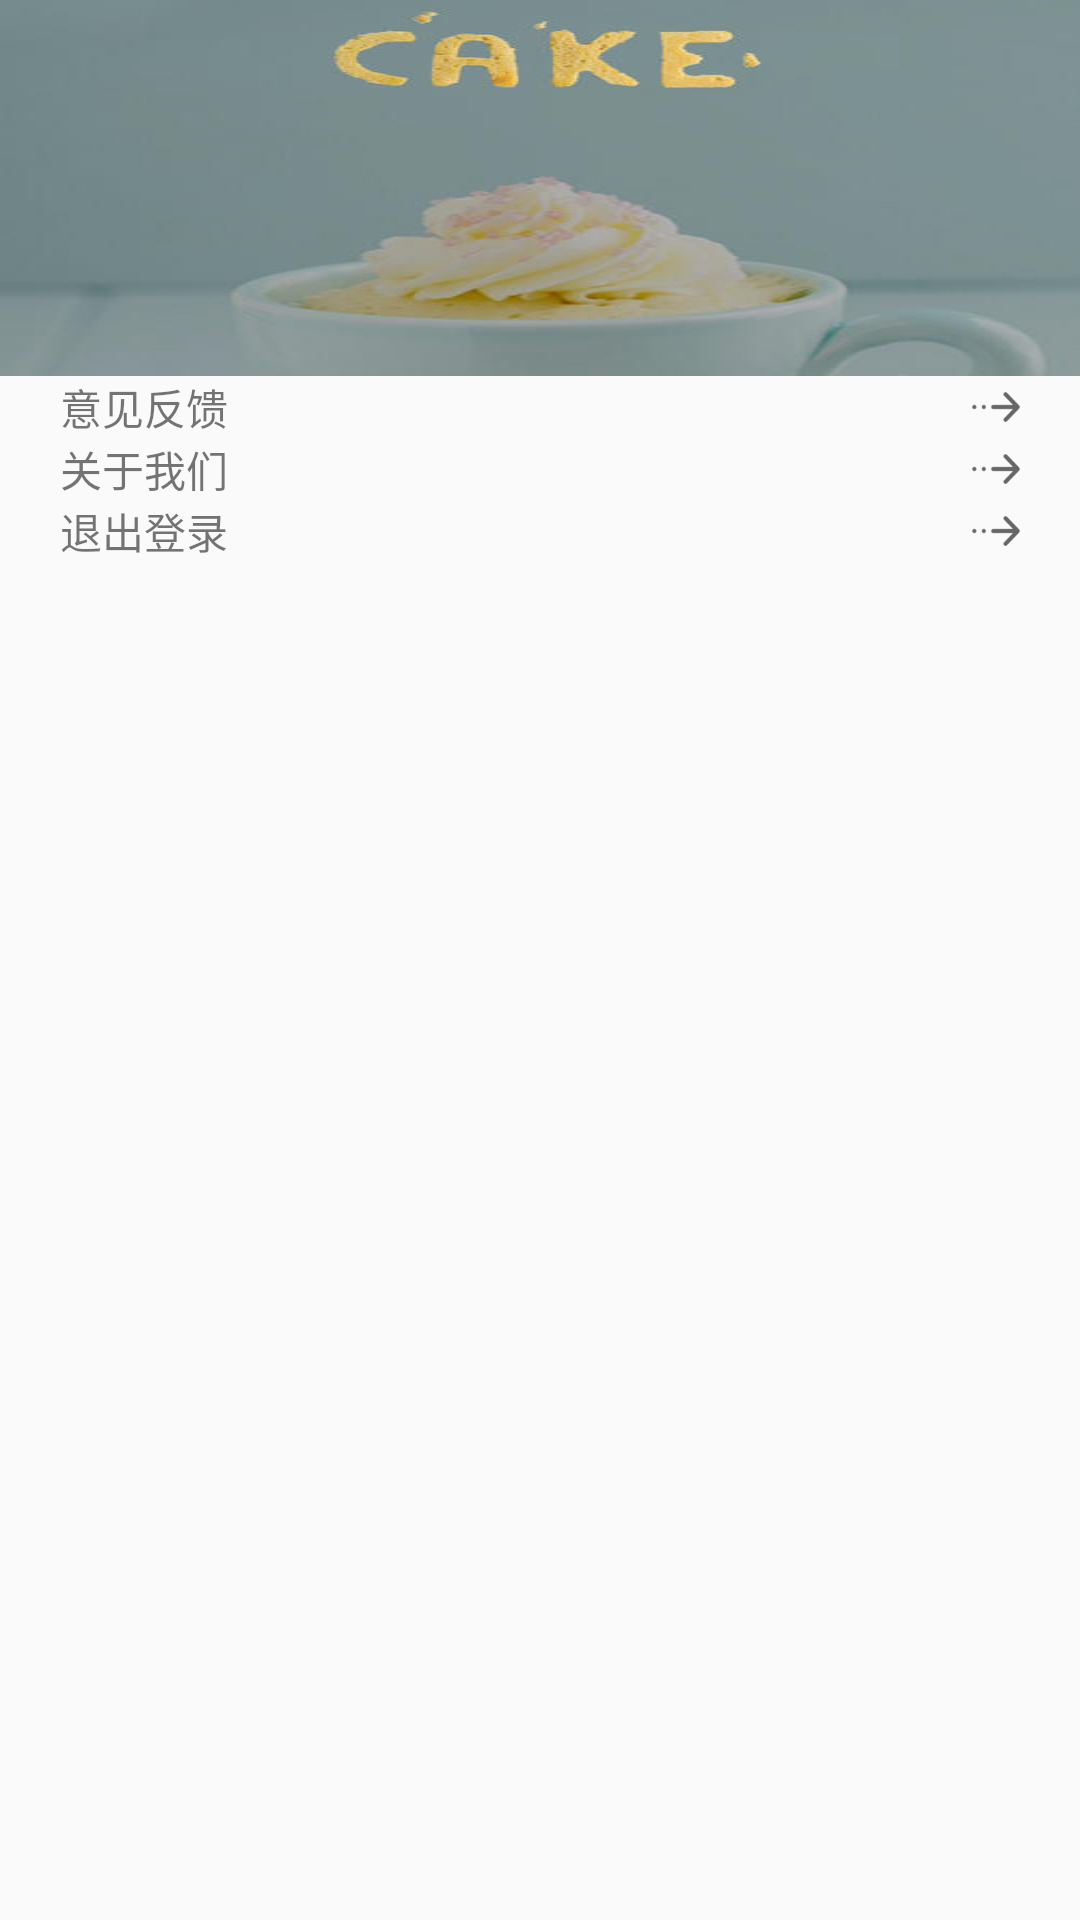

Icons on this 1080*1920 Android screen, each with the point to tap as point (x, y):
next: point (996, 407), point (996, 469), point (996, 531)
